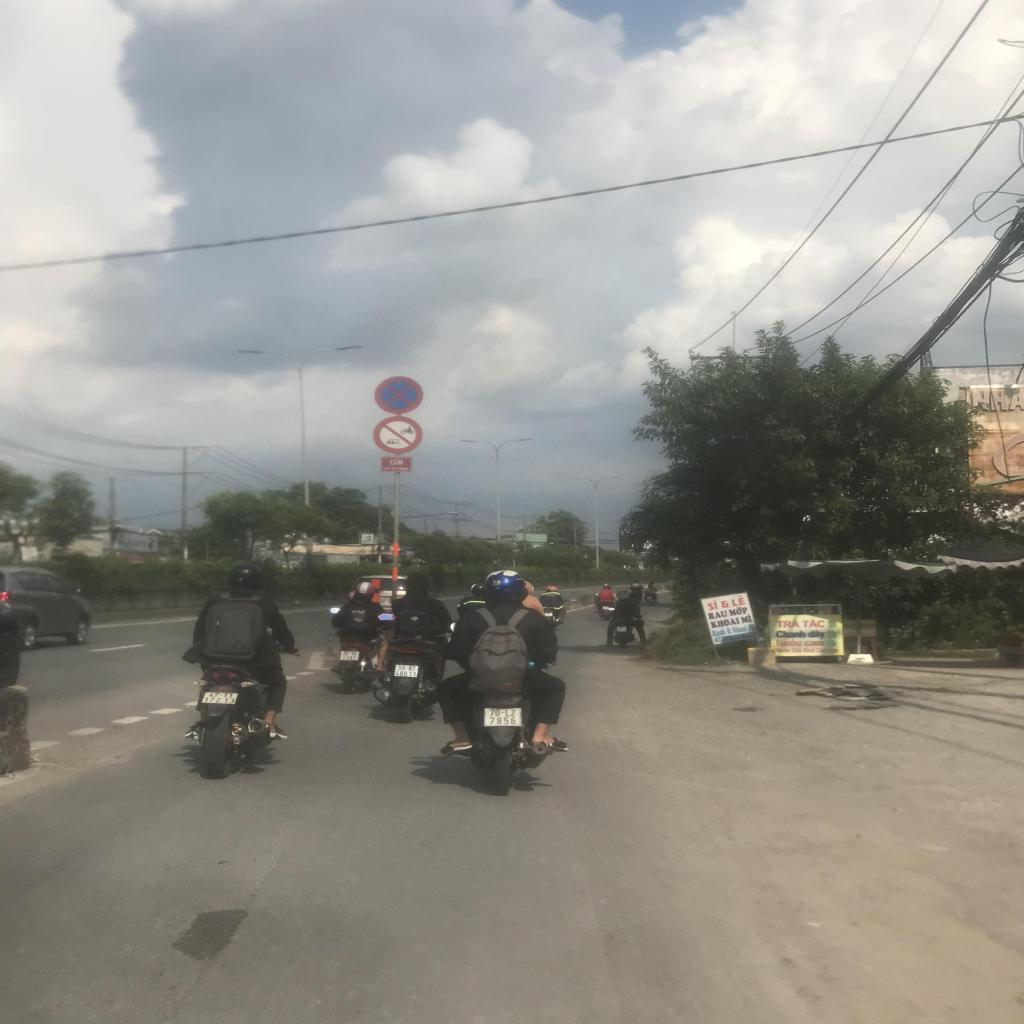cam_dung_xe_va_do_xe: (374, 376, 423, 414)
cam_xe_2_banh_va_xe_3_banh_co_dong_co: (372, 416, 422, 454)
